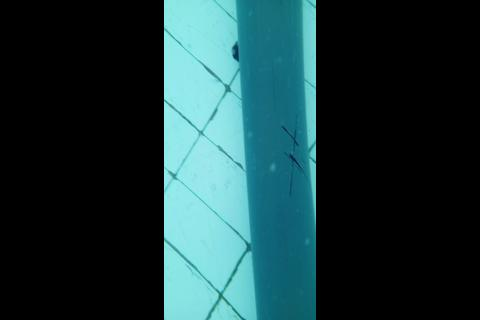keretakan: (280, 121, 305, 195)
